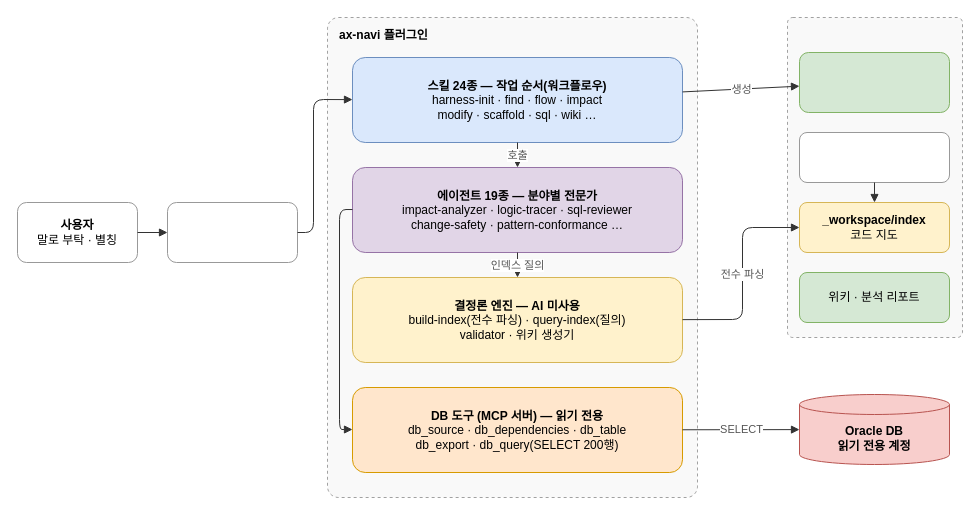
Some shapes in this 980 by 515 pixel diagram are drawn without their labels. Each missing label, with the box of its shape:
Claude Code: (166, 202, 298, 262)
CLAUDE.md · .claude/ 맞춤 규칙 · 에이전트 컨벤션 패턴: (798, 52, 950, 112)
대상 프로젝트: (786, 16, 962, 338)
소스 코드 Java · JSP · SQL …: (798, 132, 950, 182)
